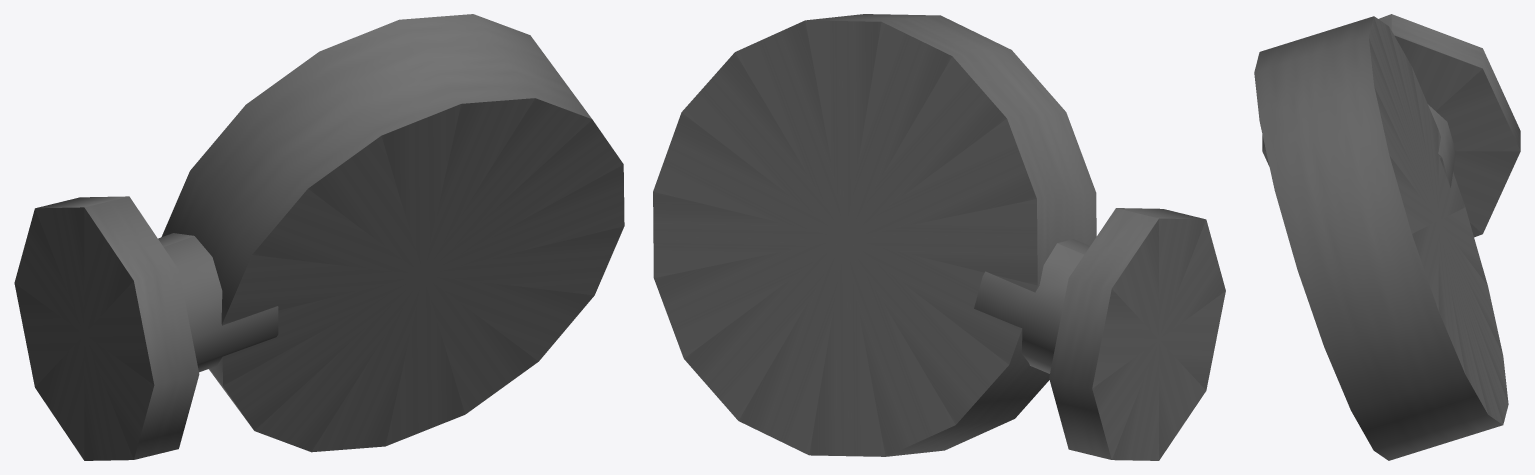
The model's file is mastarmcurve_8x2_c3_west.obj.
3 renders of one model, left to right at view 1: azimuth 30°, elevation 25°; view 2: azimuth 150°, elevation 25°; view 3: azimuth 270°, elevation 25°, orthographic. The views are drawn at different scales.
Visible parts, largest first — view 1: mastarm_8x2_c3_west; view 2: mastarm_8x2_c3_west; view 3: mastarm_8x2_c3_west.
Boxes of the visible parts, x1=… form: mastarm_8x2_c3_west: x1=14, y1=14, x2=624, y2=460; mastarm_8x2_c3_west: x1=653, y1=14, x2=1225, y2=460; mastarm_8x2_c3_west: x1=1254, y1=14, x2=1520, y2=460.
Bounding box in the file's own units: 0.8315 × 0.6891 × 0.4125.
